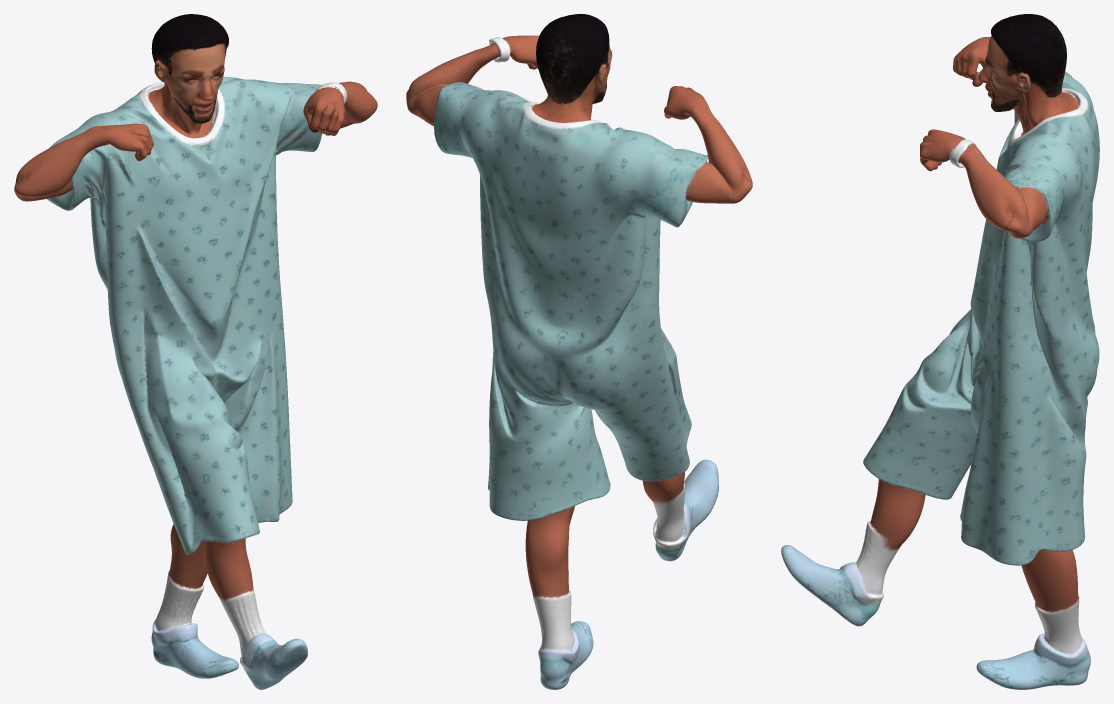
The model's file is ComfyUI_00002 (1).glb.
3 renders of one model, left to right at view 1: azimuth 30°, elevation 25°; view 2: azimuth 150°, elevation 25°; view 3: azimuth 270°, elevation 25°, orthographic. The views are drawn at different scales.
Size of the model in its own units: 0.5057 by 0.8995 by 0.391.
1 material, 1 textured.
